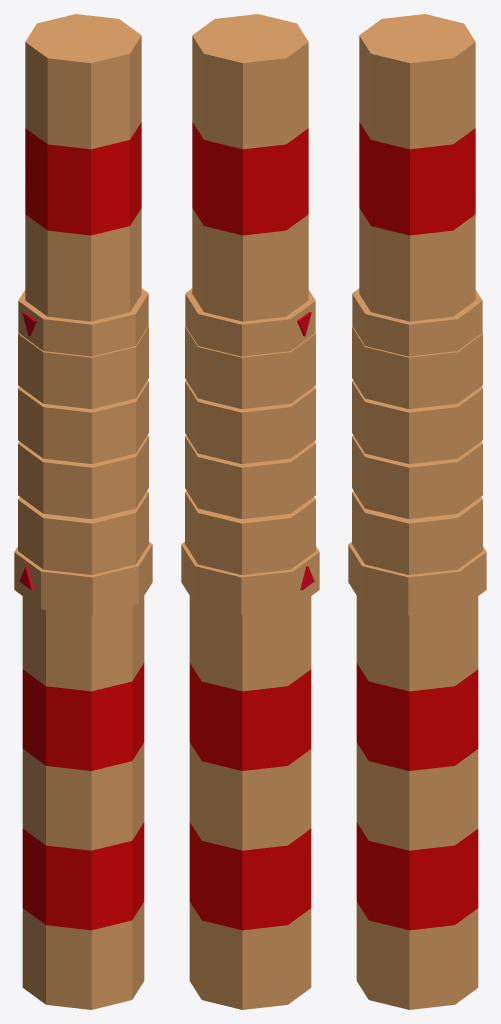
Rendered from LabyrinthPuzzleThing_Updated.fbx.
3 views of the same model, side by side, from view 1: azimuth 30°, elevation 25°; view 2: azimuth 150°, elevation 25°; view 3: azimuth 330°, elevation 25° (orthographic).
Parts seen in each view (by area): view 1: Cylinder, Cylinder.001, Cylinder.002, Cylinder.003, Cylinder.004; view 2: Cylinder, Cylinder.001, Cylinder.002, Cylinder.003, Cylinder.004; view 3: Cylinder, Cylinder.001, Cylinder.002, Cylinder.003, Cylinder.004.
Part boxes in pixels (left/top/right/bottom): Cylinder: left=14, top=14, right=152, bottom=1009; Cylinder.001: left=18, top=491, right=148, bottom=574; Cylinder.002: left=18, top=435, right=148, bottom=518; Cylinder.003: left=18, top=380, right=148, bottom=463; Cylinder.004: left=18, top=326, right=148, bottom=409; Cylinder: left=181, top=14, right=319, bottom=1009; Cylinder.001: left=185, top=491, right=315, bottom=574; Cylinder.002: left=185, top=435, right=315, bottom=518; Cylinder.003: left=185, top=380, right=315, bottom=463; Cylinder.004: left=185, top=326, right=315, bottom=409; Cylinder: left=348, top=14, right=486, bottom=1009; Cylinder.001: left=352, top=491, right=482, bottom=574; Cylinder.002: left=352, top=435, right=482, bottom=518; Cylinder.003: left=352, top=380, right=482, bottom=463; Cylinder.004: left=352, top=326, right=482, bottom=409.
Size of the model in its own units: 214 by 210 by 1699.
